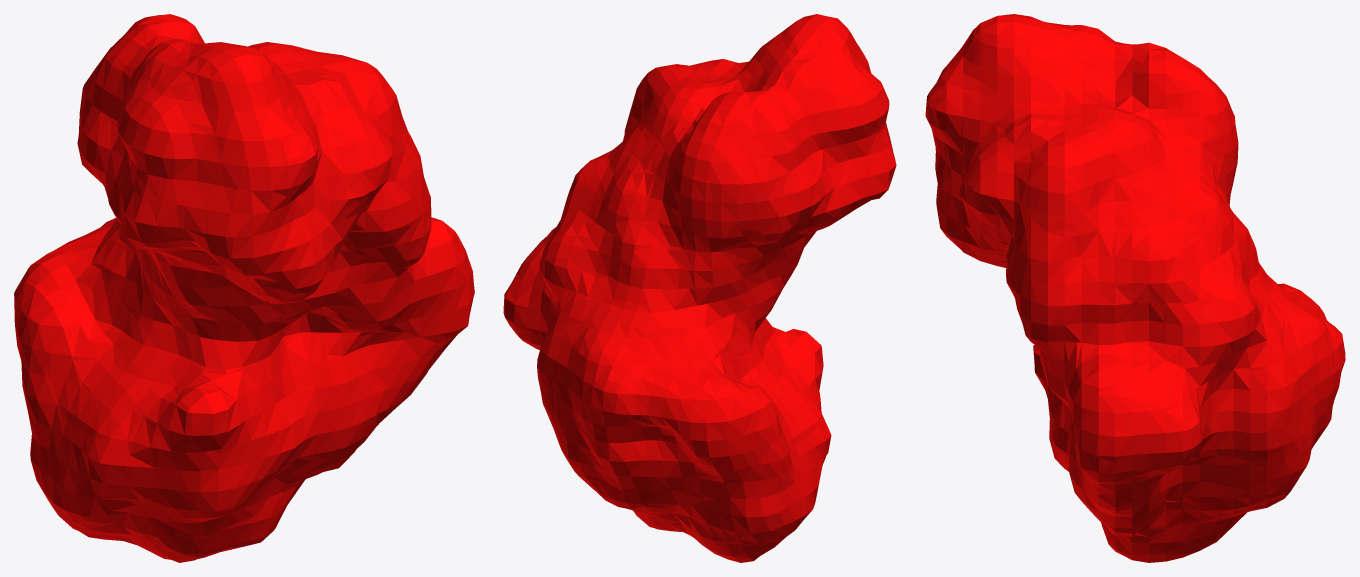
The model's file is tktA_coarse.dae.
3 renders of one model, left to right at view 1: azimuth 30°, elevation 25°; view 2: azimuth 150°, elevation 25°; view 3: azimuth 270°, elevation 25°, orthographic. The views are drawn at different scales.
Parts seen in each view (by area): view 1: tktA; view 2: tktA; view 3: tktA.
Part boxes in pixels (x1,y1,x2,y2): tktA: (14,14,474,562); tktA: (503,14,896,562); tktA: (925,14,1345,562).
Bounding box in the file's own units: 65.28 × 92.44 × 68.38.
